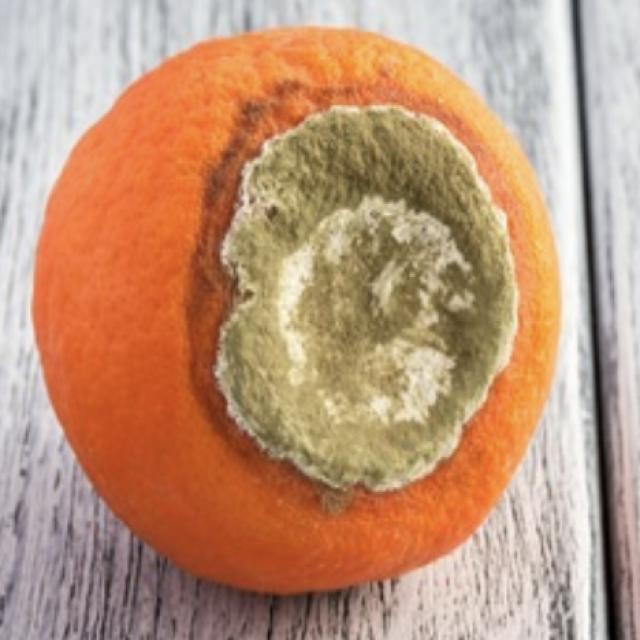orange: (33, 29, 559, 592)
